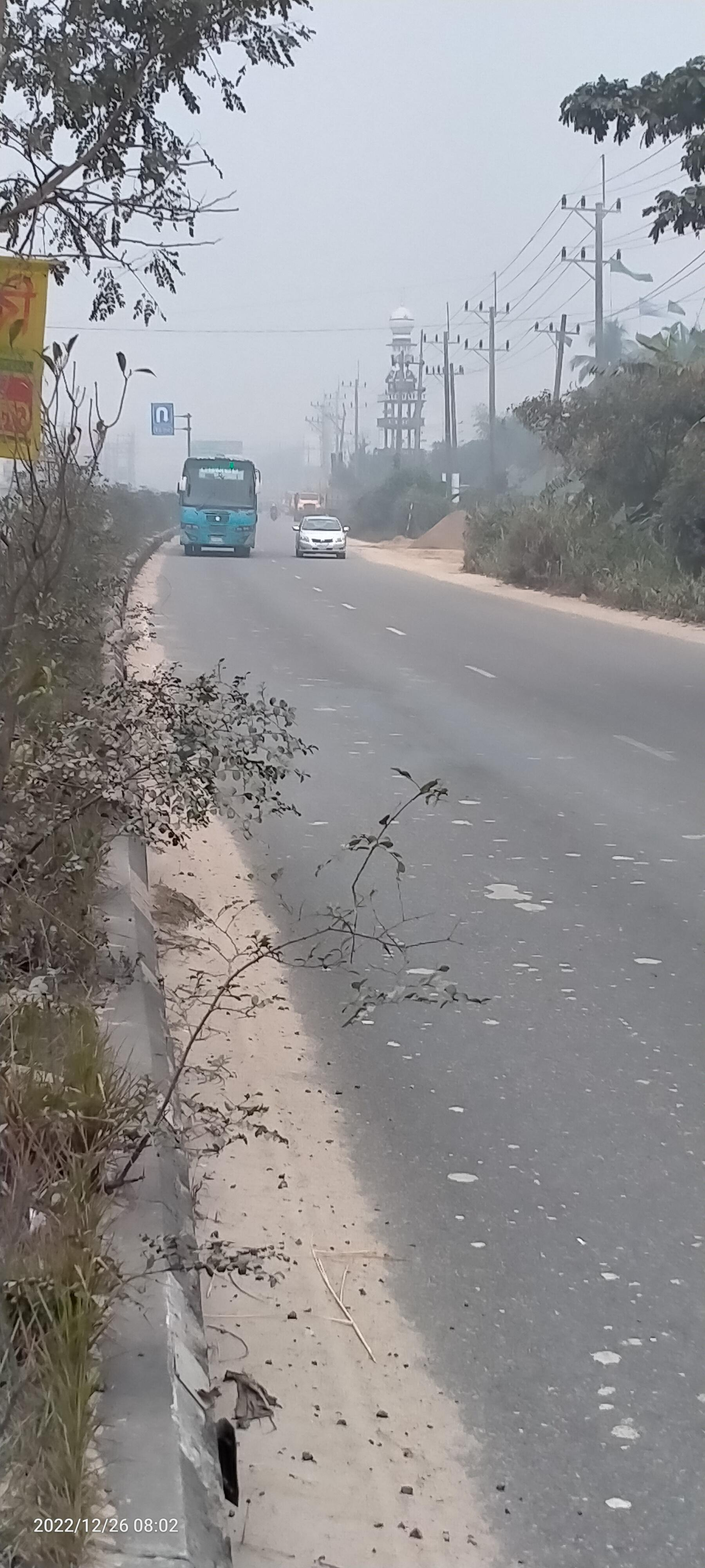Bike: (268, 500, 281, 526)
Bus: (178, 451, 262, 558)
Car: (292, 513, 350, 559)
Truck: (291, 487, 325, 522)
